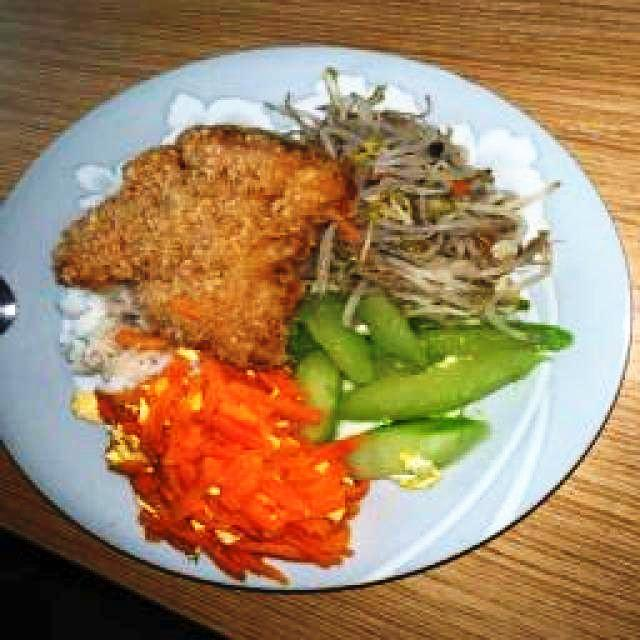carrot_eggs: (97, 347, 370, 584)
fried_chicken: (52, 121, 357, 368)
mung_bean_sprouts: (354, 126, 462, 314)
